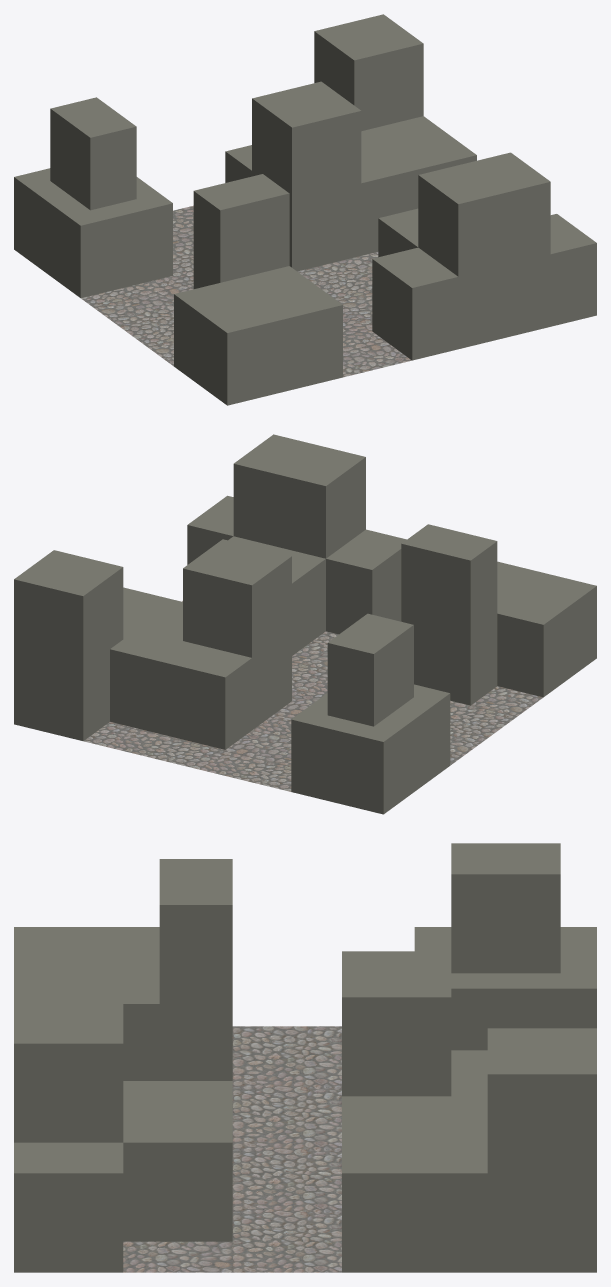
The model's file is tile1.fbx.
The picture shows the model from 3 angles, top to bottom: view 1: azimuth 30°, elevation 25°; view 2: azimuth 150°, elevation 25°; view 3: azimuth 270°, elevation 25°; orthographic projection. The views are drawn at different scales.
Visible parts, largest first — view 1: Tile1; view 2: Tile1; view 3: Tile1.
Part boxes in pixels (x1=…): Tile1: x1=14, y1=14, x2=596, y2=405; Tile1: x1=14, y1=434, x2=596, y2=814; Tile1: x1=14, y1=843, x2=596, y2=1272.
Bounding box in the file's own units: 1600 × 600 × 1600.
